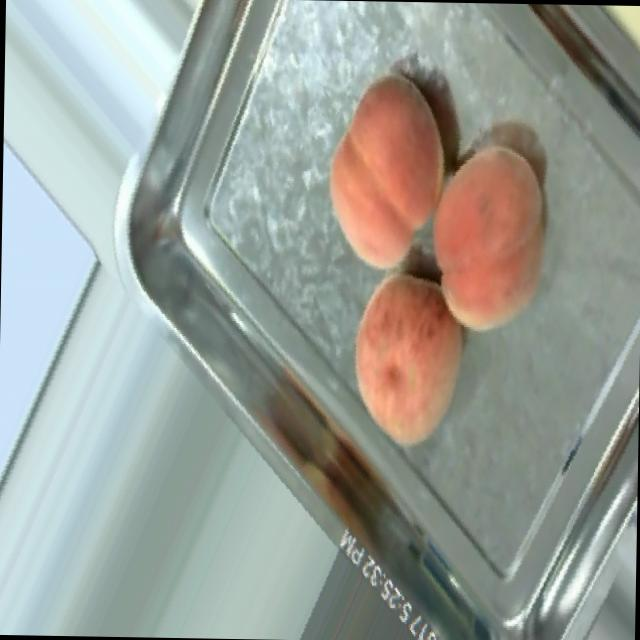Fruit: (402, 119, 580, 352), (300, 54, 473, 290), (331, 255, 485, 464), (557, 4, 640, 103)
